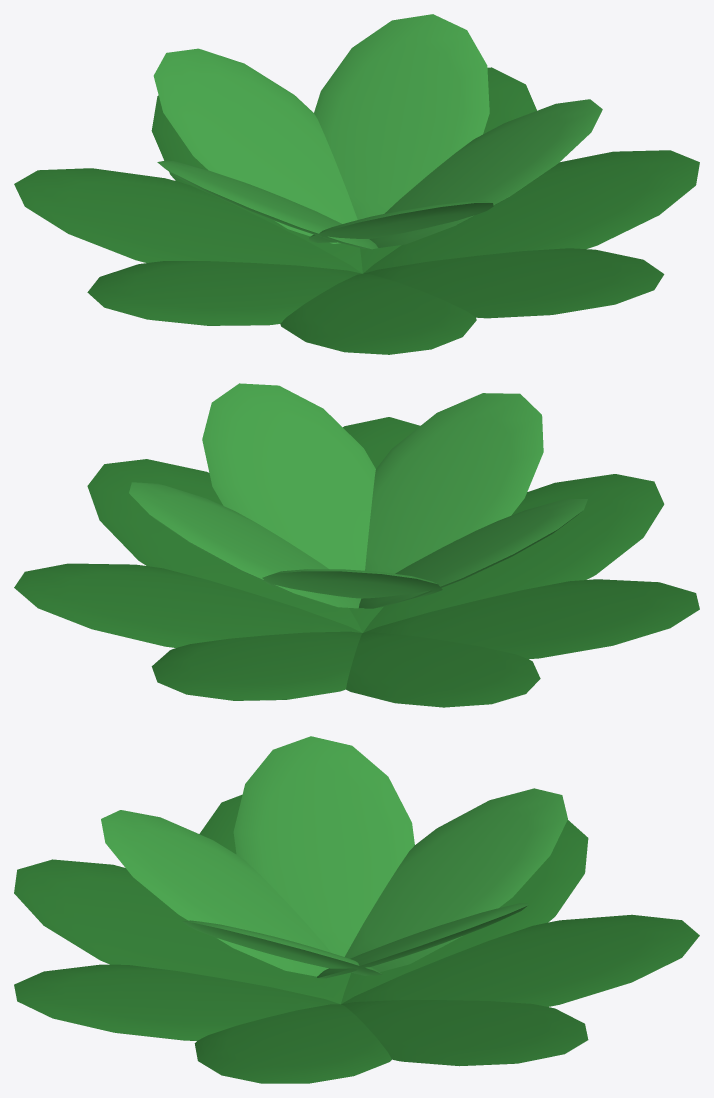
Rendered from Spinach.fbx.
3 views of the same model, one above another, from view 1: azimuth 30°, elevation 25°; view 2: azimuth 150°, elevation 25°; view 3: azimuth 270°, elevation 25° (orthographic).
Visible parts, largest first — view 1: Spinach; view 2: Spinach; view 3: Spinach.
Part boxes in pixels (x1,y1,x2,y2): Spinach: (14,14,699,354); Spinach: (14,383,699,707); Spinach: (14,736,699,1083).
Size of the model in its own units: 0.1708 by 0.0448 by 0.1673.
